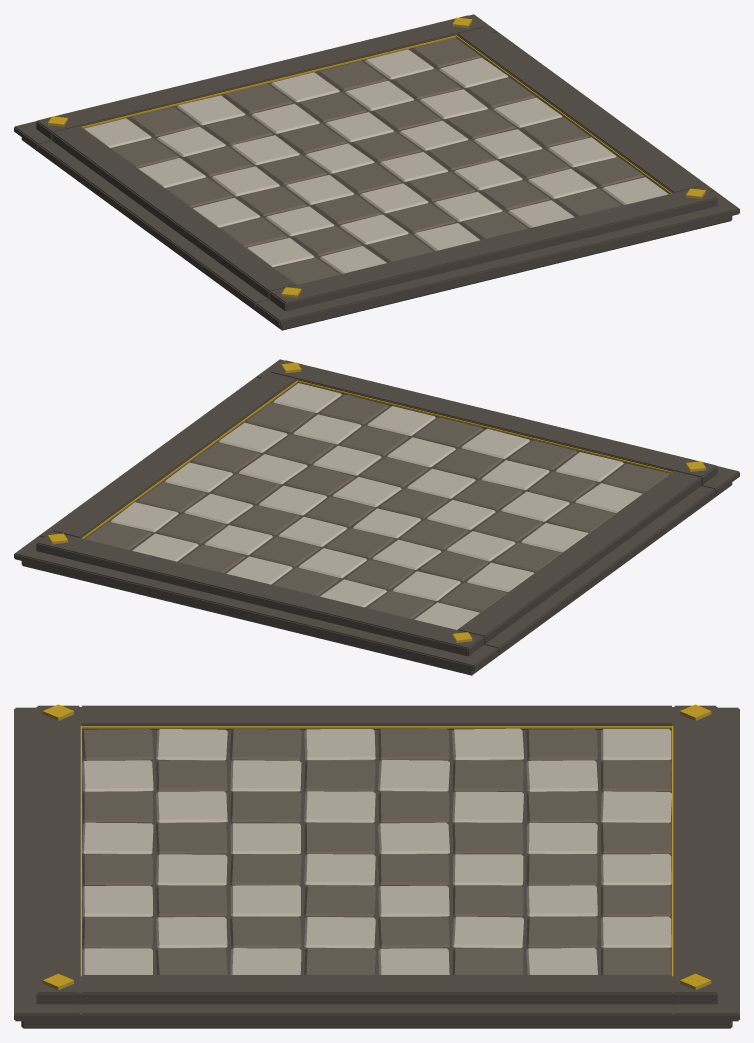
File: MachuPicchu_Tablero.fbx
The picture shows the model from 3 angles, top to bottom: view 1: azimuth 30°, elevation 25°; view 2: azimuth 150°, elevation 25°; view 3: azimuth 270°, elevation 25°; orthographic projection. The views are drawn at different scales.
Visible parts, largest first — view 1: MachuPicchu_Tablero; view 2: MachuPicchu_Tablero; view 3: MachuPicchu_Tablero.
Part boxes in pixels (x1,y1,x2,y2): MachuPicchu_Tablero: (14, 14, 739, 330); MachuPicchu_Tablero: (14, 359, 739, 675); MachuPicchu_Tablero: (14, 704, 739, 1028).
Bounding box in the file's own units: 9.8 × 1 × 9.8.
